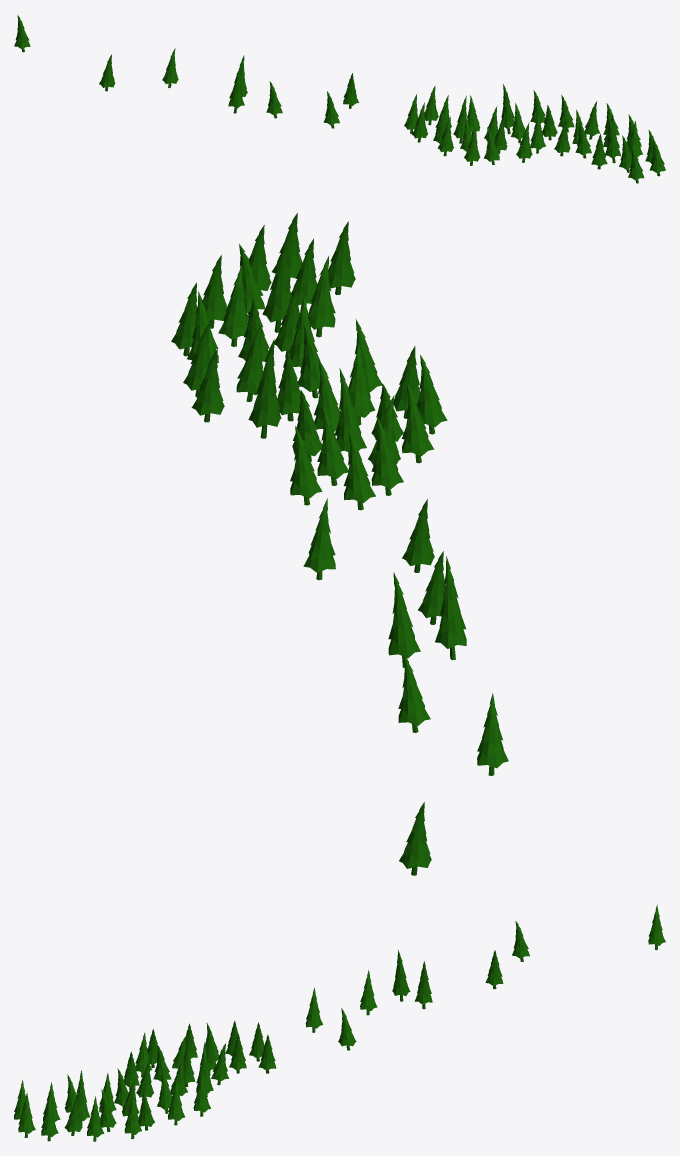
Rendered from Pine_Tree_2_Spring.glb.
3 renders of one model, top to bottom at view 1: azimuth 30°, elevation 25°; view 2: azimuth 150°, elevation 25°; view 3: azimuth 270°, elevation 25°, orthographic. The views are drawn at different scales.
Parts seen in each view (by area): view 1: Pine_Tree_2_Spring.043; view 2: Pine_Tree_2_Spring.043; view 3: Pine_Tree_2_Spring.043.
Part boxes in pixels (x1,y1,x2,y2): Pine_Tree_2_Spring.043: (14, 15, 665, 183); Pine_Tree_2_Spring.043: (171, 213, 508, 875); Pine_Tree_2_Spring.043: (14, 904, 665, 1141).
Size of the model in its own units: 64.69 by 8.55 by 89.39.
